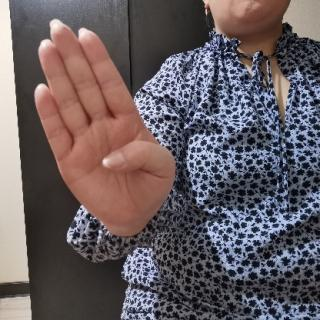KAAF: (31, 14, 176, 240)
